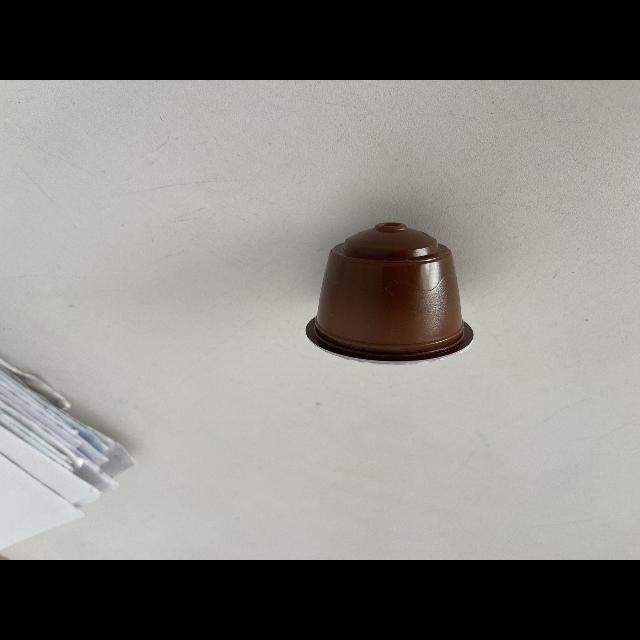intact_capsule: (295, 212, 485, 374)
